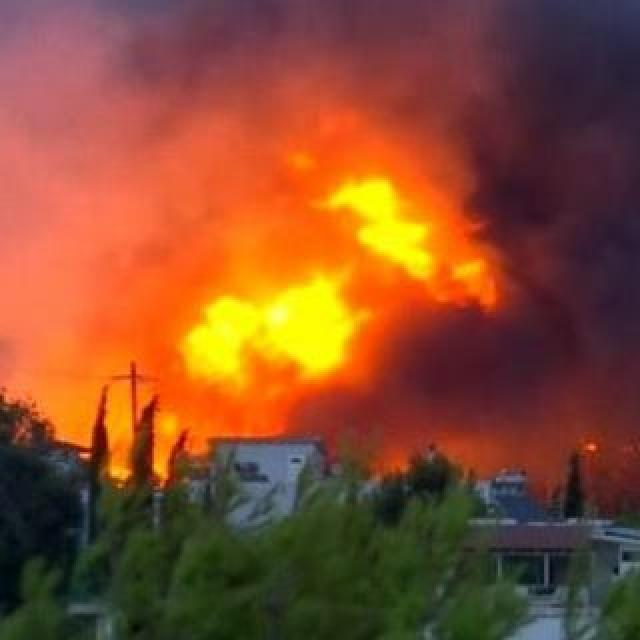Smoke: (14, 0, 636, 472)
